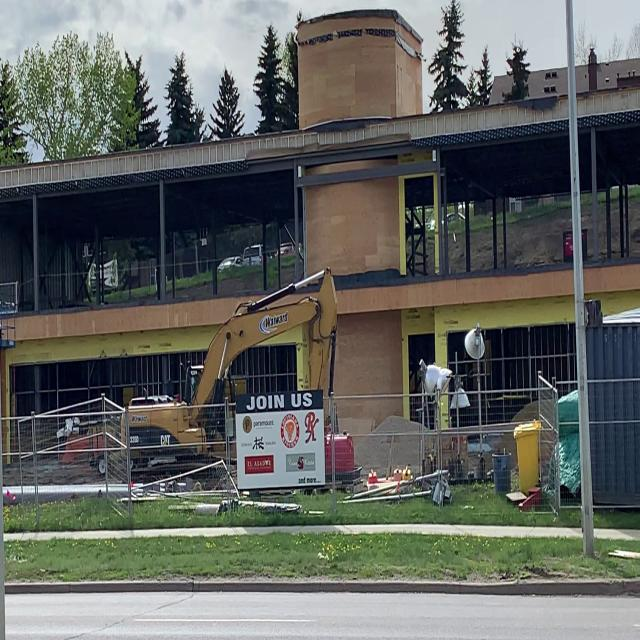excavator: (96, 262, 349, 489)
